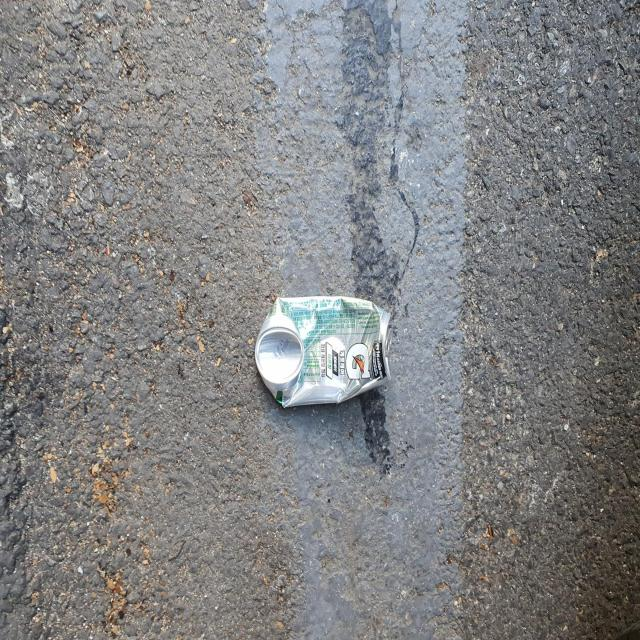can: (255, 296, 391, 407)
